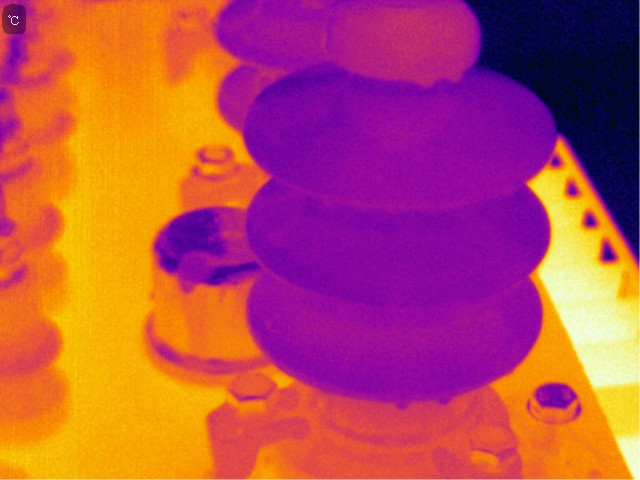Oil: (329, 1, 481, 87), (391, 397, 413, 414), (433, 395, 454, 408)
